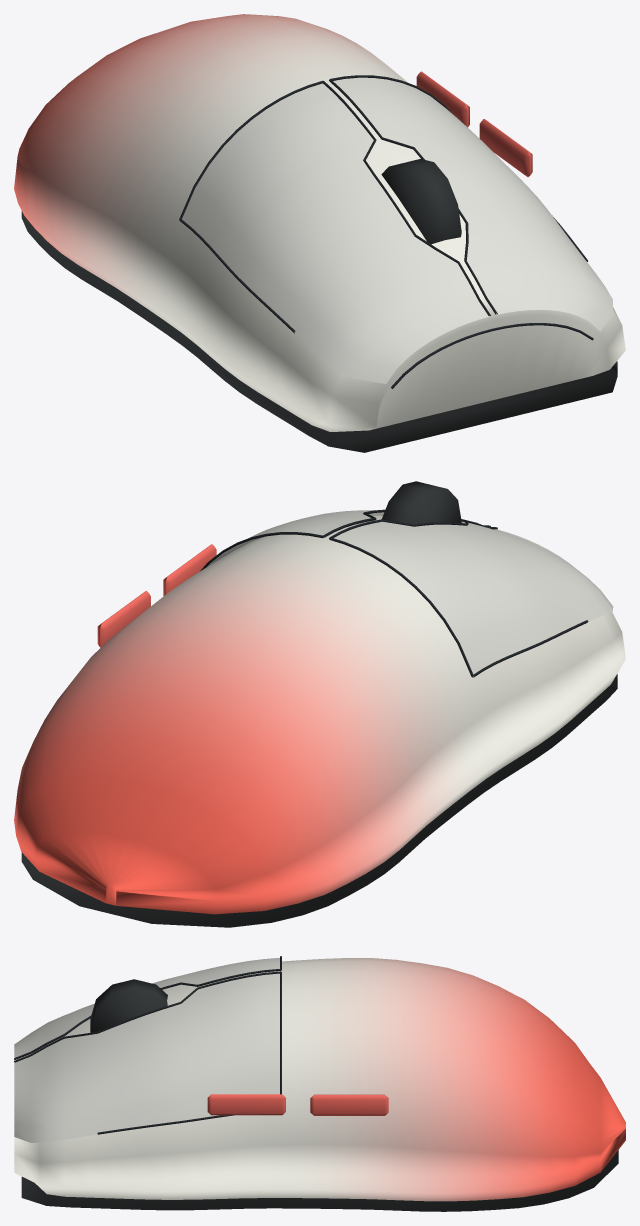
The model's file is lod2_source.glb.
3 renders of one model, top to bottom at view 1: azimuth 30°, elevation 25°; view 2: azimuth 150°, elevation 25°; view 3: azimuth 270°, elevation 25°, orthographic. The views are drawn at different scales.
Parts seen in each view (by area): view 1: Mouse body GPX continuous rounded back, Left click panel, Right click panel, Thin inset black base, Scroll wheel, Side button left only, Side button left only.001, Left click center seam, Right click center seam, Front recessed button separation, Left click rear seam; view 2: Mouse body GPX continuous rounded back, Left click panel, Thin inset black base, Scroll wheel, Right click panel, Side button left only.001, Side button left only, Left click rear seam; view 3: Mouse body GPX continuous rounded back, Right click panel, Thin inset black base, Left click panel, Scroll wheel, Side button left only, Side button left only.001, Right click center seam, Left click center seam, Right click outer seam.
Part boxes in pixels (<box>): Mouse body GPX continuous rounded back: <box>14,14,625,431</box>; Left click panel: <box>182,83,489,383</box>; Right click panel: <box>333,77,613,331</box>; Thin inset black base: <box>21,211,617,452</box>; Scroll wheel: <box>381,159,461,244</box>; Side button left only: <box>479,119,532,177</box>; Side button left only.001: <box>416,71,469,127</box>; Left click center seam: <box>322,81,490,315</box>; Right click center seam: <box>329,79,497,314</box>; Front recessed button separation: <box>391,323,593,388</box>; Left click rear seam: <box>179,80,322,219</box>; Mouse body GPX continuous rounded back: <box>14,515,625,914</box>; Left click panel: <box>334,521,613,676</box>; Thin inset black base: <box>21,674,617,927</box>; Scroll wheel: <box>382,481,461,524</box>; Right click panel: <box>207,510,465,566</box>; Side button left only.001: <box>97,591,150,647</box>; Side button left only: <box>163,544,216,596</box>; Left click rear seam: <box>329,537,473,676</box>; Mouse body GPX continuous rounded back: <box>14,958,625,1201</box>; Right click panel: <box>14,973,279,1142</box>; Thin inset black base: <box>21,1150,618,1211</box>; Left click panel: <box>14,958,279,1057</box>; Scroll wheel: <box>90,979,167,1032</box>; Side button left only: <box>207,1094,285,1115</box>; Side button left only.001: <box>310,1094,388,1115</box>; Right click center seam: <box>14,971,280,1062</box>; Left click center seam: <box>14,969,280,1059</box>; Right click outer seam: <box>97,1115,233,1134</box>.
Bounding box in the file's own units: 0.0635 × 0.0404 × 0.1251.
